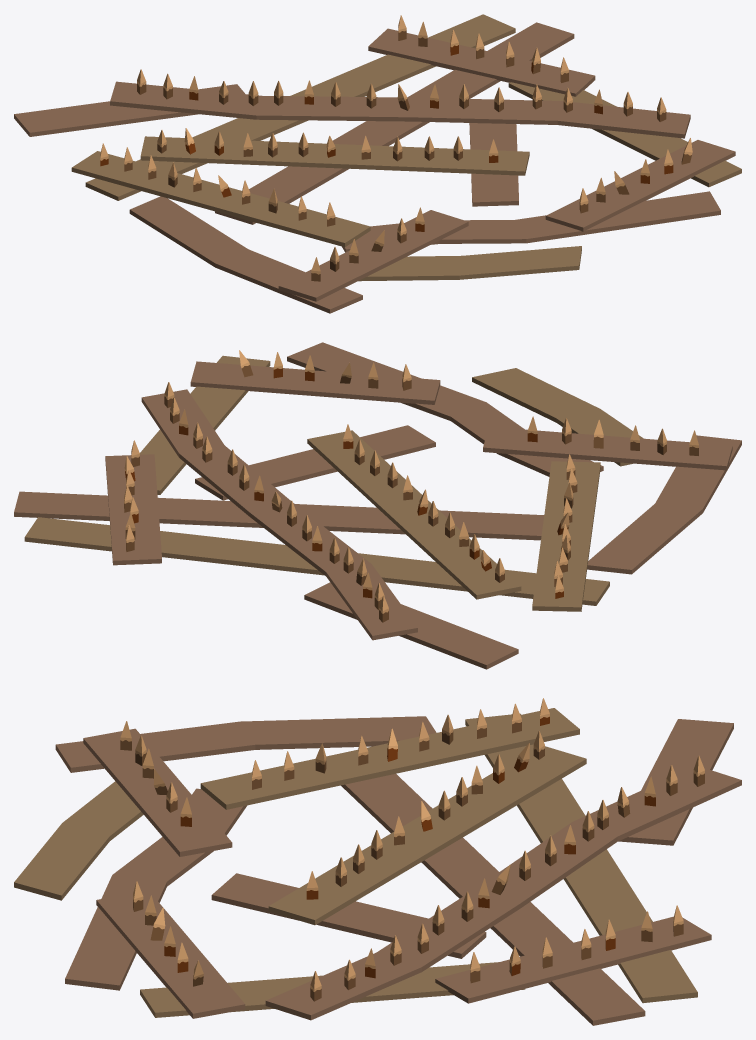
File: Spike.fbx
3 views of the same model, one above another, from view 1: azimuth 30°, elevation 25°; view 2: azimuth 150°, elevation 25°; view 3: azimuth 270°, elevation 25° (orthographic). The views are drawn at different scales.
Visible parts, largest first — view 1: Cube, Cylinder; view 2: Cube, Cylinder; view 3: Cube, Cylinder.
Part boxes in pixels (x1,y1,x2,y2): Cube: (14,14,741,313); Cylinder: (100,15,692,281); Cube: (14,342,741,669); Cylinder: (124,350,698,622); Cube: (14,708,741,1025); Cylinder: (120,698,704,1001).
Size of the model in its own units: 198 by 11.77 by 198.
